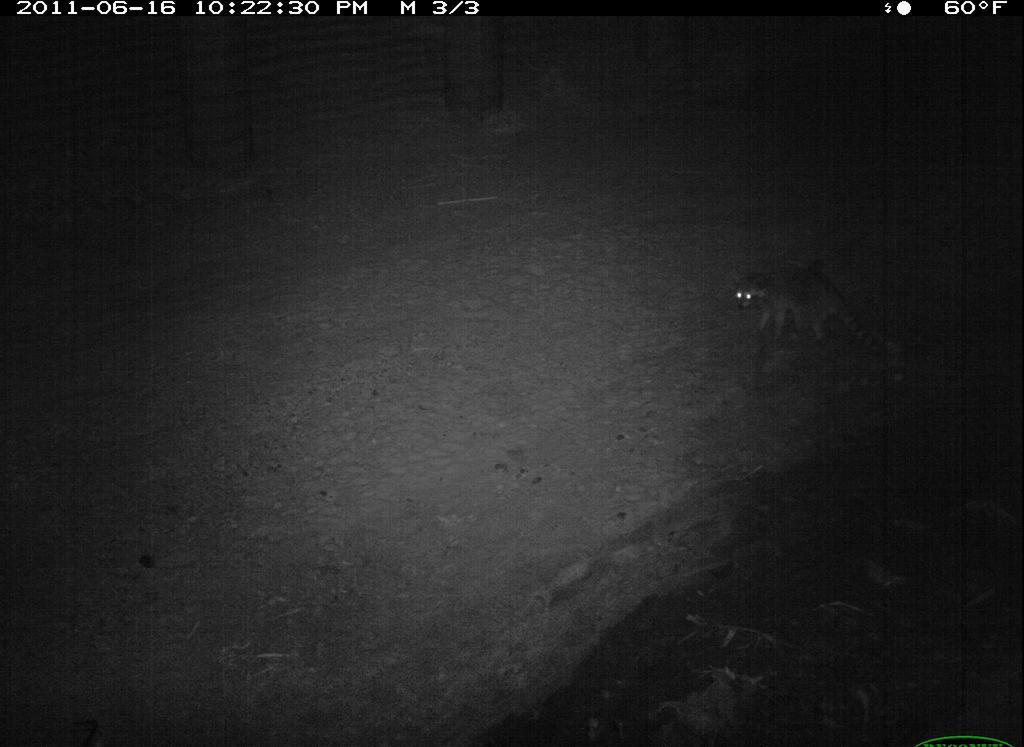raccoon: (728, 262, 891, 376)
